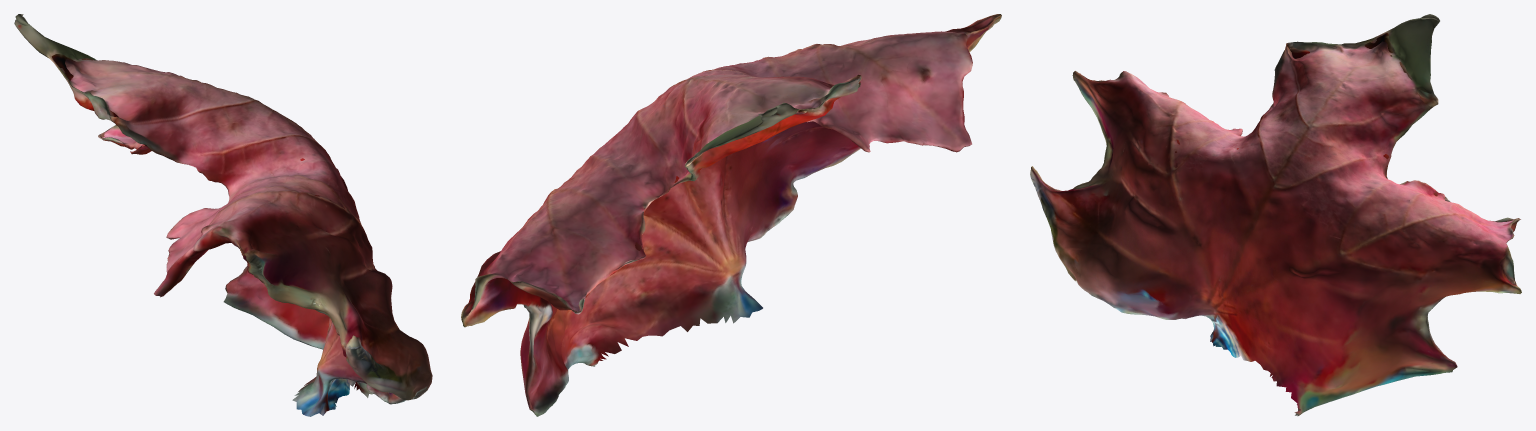
The model's file is RedLeaf.fbx.
3 renders of one model, left to right at view 1: azimuth 30°, elevation 25°; view 2: azimuth 150°, elevation 25°; view 3: azimuth 270°, elevation 25°, orthographic. The views are drawn at different scales.
Visible parts, largest first — view 1: RedLeaf; view 2: RedLeaf; view 3: RedLeaf.
Boxes of the visible parts, <box> form: RedLeaf: <box>14,14,432,416</box>; RedLeaf: <box>461,14,1001,416</box>; RedLeaf: <box>1030,14,1521,416</box>.
Bounding box in the file's own units: 40.42 × 47.11 × 69.88.
